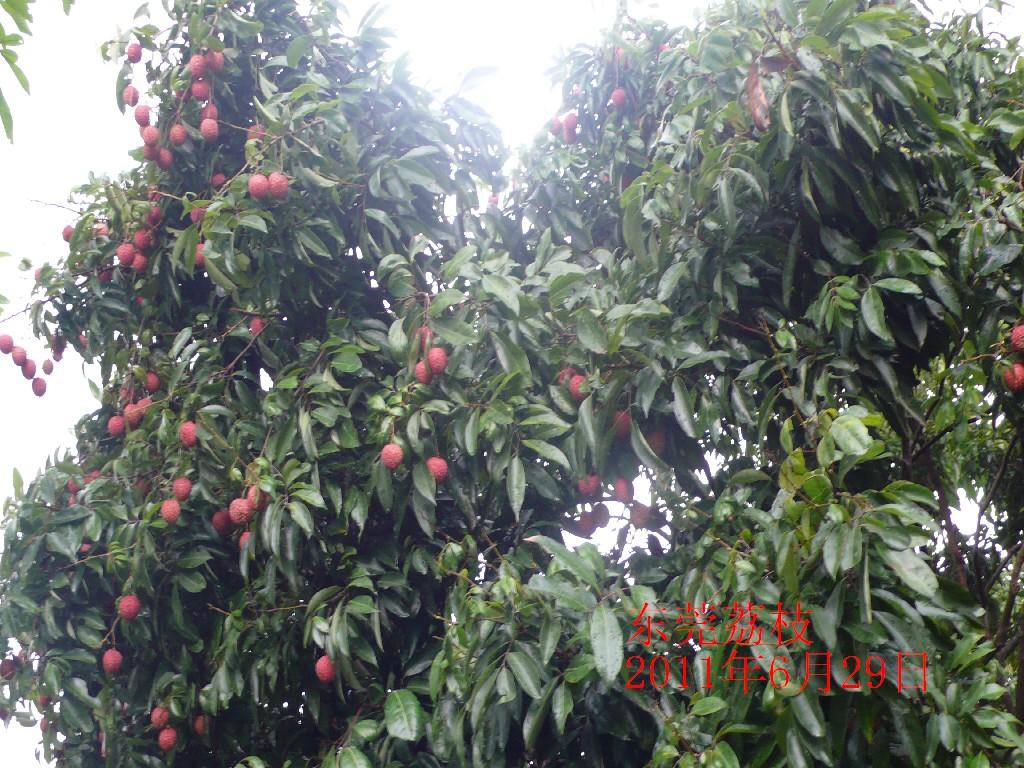果实成熟期: (120, 396, 157, 425), (228, 495, 257, 525), (188, 51, 222, 76), (613, 474, 636, 509), (609, 408, 632, 441), (424, 345, 448, 376), (427, 455, 450, 485), (101, 645, 124, 674), (313, 652, 335, 682), (156, 498, 181, 524), (117, 594, 141, 620), (567, 374, 590, 401), (156, 725, 179, 751), (103, 413, 128, 436), (180, 421, 202, 447), (1005, 362, 1024, 392), (247, 173, 268, 200), (380, 441, 402, 466), (149, 704, 171, 729), (577, 474, 600, 497), (198, 115, 220, 139), (268, 171, 289, 196), (171, 476, 192, 500), (192, 79, 213, 103), (131, 229, 152, 251), (127, 252, 149, 273), (212, 510, 233, 532), (244, 124, 266, 145), (248, 315, 267, 339), (592, 503, 610, 527), (167, 123, 187, 144), (142, 125, 161, 147), (117, 243, 134, 266), (1011, 320, 1024, 350), (121, 86, 140, 106), (1, 331, 16, 356), (135, 106, 152, 127), (157, 147, 172, 170), (126, 43, 144, 62), (142, 370, 159, 390), (560, 111, 578, 129), (560, 127, 578, 145), (30, 379, 47, 398), (201, 104, 222, 119), (60, 224, 76, 243), (611, 85, 625, 105), (21, 361, 37, 378), (40, 361, 54, 375)
